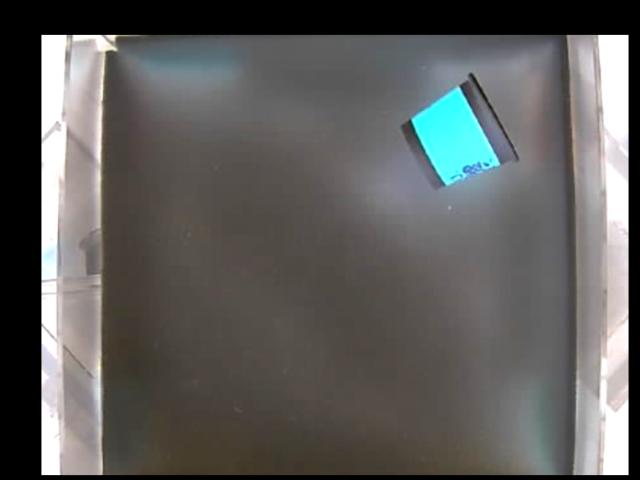Cup: (398, 69, 518, 191)
